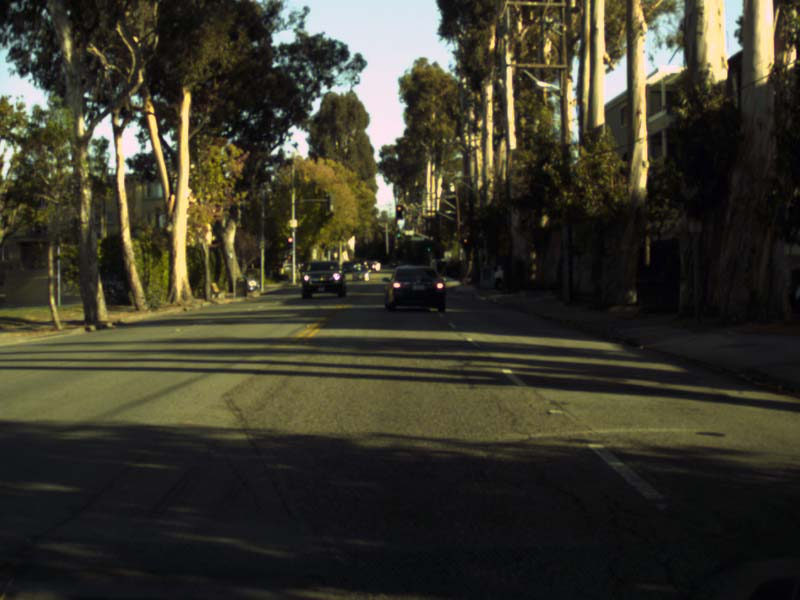Green: (396, 229, 401, 238), (426, 240, 430, 251)
Red: (395, 204, 402, 218), (461, 236, 468, 243)
